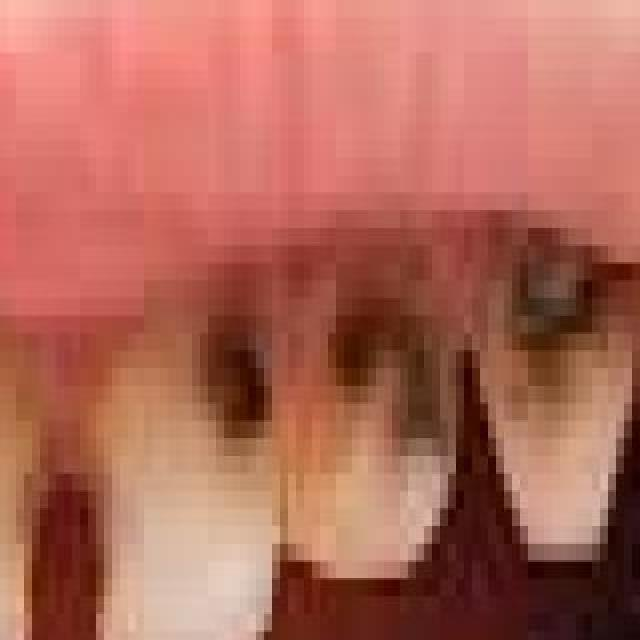cavities: (296, 234, 486, 506), (139, 272, 295, 580), (477, 238, 615, 490)
